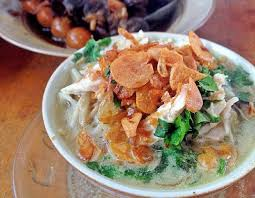soto: (45, 34, 255, 181)
